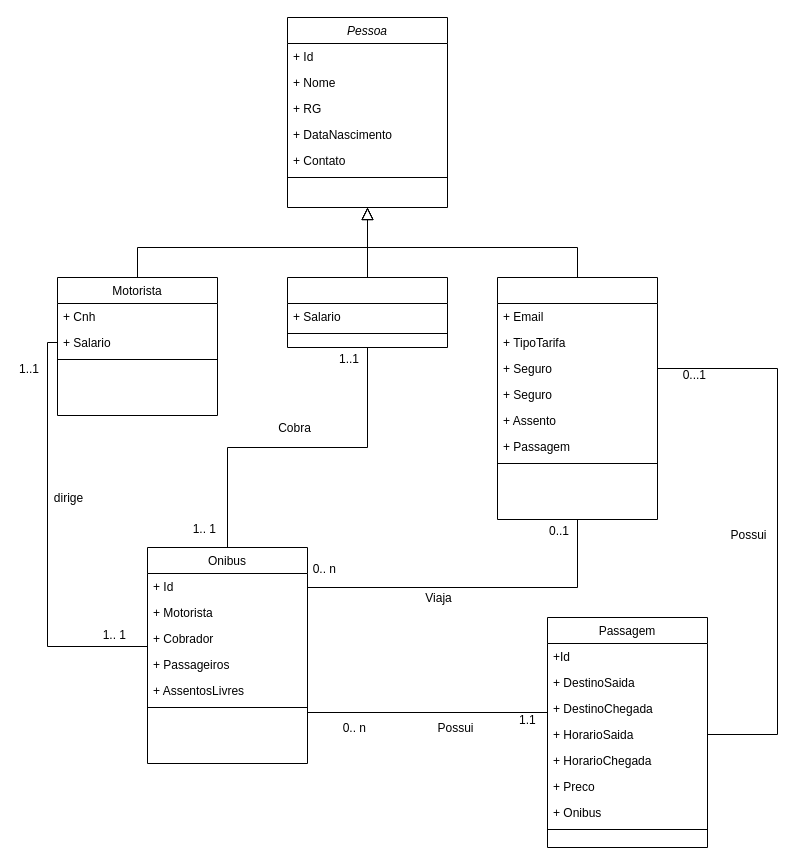
Image size: 796x865. Some labels were removed from this diagram. Here are the shapes that lost their labels. From the top down, the box of each, then its label:
(286, 276, 448, 348): Cobrador
(496, 276, 658, 520): Passageiro
